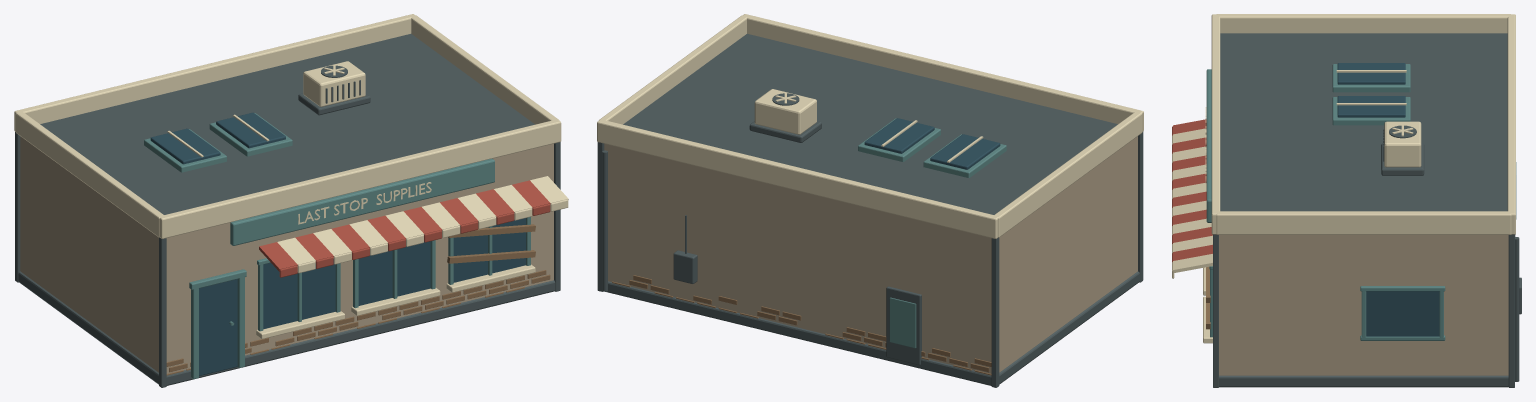
Rendered from Storefront.glb.
The picture shows the model from 3 angles, left to right: view 1: azimuth 30°, elevation 25°; view 2: azimuth 150°, elevation 25°; view 3: azimuth 270°, elevation 25°; orthographic projection. The views are drawn at different scales.
Visible parts, largest first — view 1: Detail_Charcoal metal, Detail_Ivory paint, MainShell, Detail_Dark blue glass, Detail_Oxidized teal steel, Detail_Faded red paint, Detail_Weathered timber; view 2: MainShell, Detail_Charcoal metal, Detail_Ivory paint, Detail_Oxidized teal steel, Detail_Dark blue glass, Detail_Weathered timber; view 3: Detail_Charcoal metal, MainShell, Detail_Ivory paint, Detail_Dark blue glass, Detail_Oxidized teal steel, Detail_Faded red paint.
Part boxes in pixels (x1,y1,x2,y2): Detail_Charcoal metal: [15, 34, 560, 387]; Detail_Ivory paint: [14, 14, 568, 339]; MainShell: [20, 136, 553, 373]; Detail_Dark blue glass: [150, 112, 525, 375]; Detail_Oxidized teal steel: [144, 113, 530, 379]; Detail_Faded red paint: [259, 180, 550, 277]; Detail_Weathered timber: [166, 224, 550, 375]; MainShell: [604, 136, 1137, 373]; Detail_Charcoal metal: [597, 33, 1143, 387]; Detail_Ivory paint: [597, 14, 1143, 238]; Detail_Oxidized teal steel: [858, 118, 1006, 348]; Detail_Dark blue glass: [864, 118, 1000, 169]; Detail_Weathered timber: [612, 275, 991, 375]; Detail_Charcoal metal: [1213, 33, 1521, 387]; MainShell: [1219, 235, 1508, 375]; Detail_Ivory paint: [1172, 14, 1515, 343]; Detail_Dark blue glass: [1337, 63, 1439, 336]; Detail_Oxidized teal steel: [1206, 64, 1516, 340]; Detail_Faded red paint: [1172, 119, 1212, 262].
Bounding box in the file's own units: 12.22 × 5.4 × 8.99.
